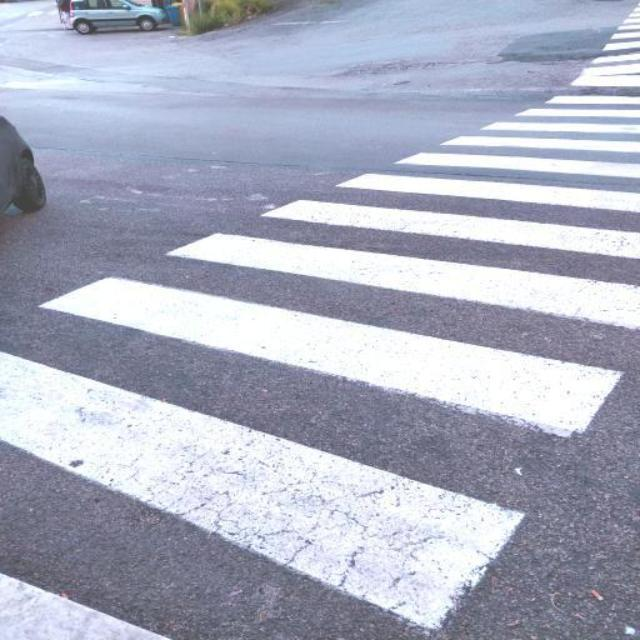sidewalk: (1, 2, 640, 639)
